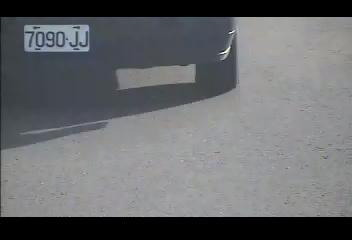plate: (22, 23, 90, 53)
